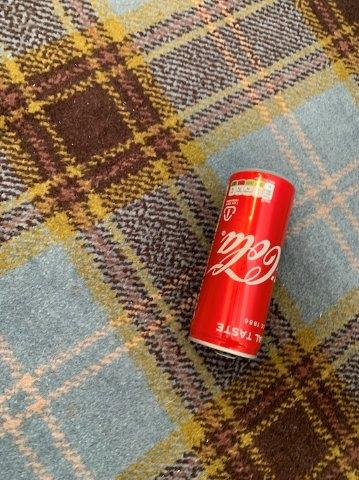kaleng: (191, 169, 295, 359)
